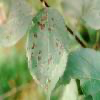Apple Scab Leaf: (26, 5, 72, 99)
